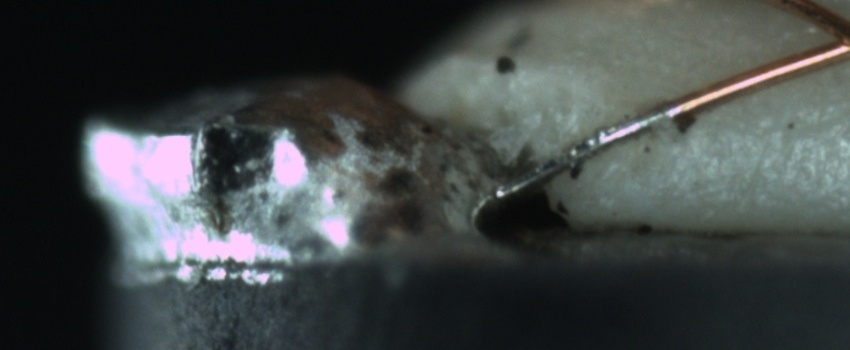CL: (805, 4, 850, 67)
DL: (660, 107, 849, 142)
TS: (477, 99, 678, 209)
